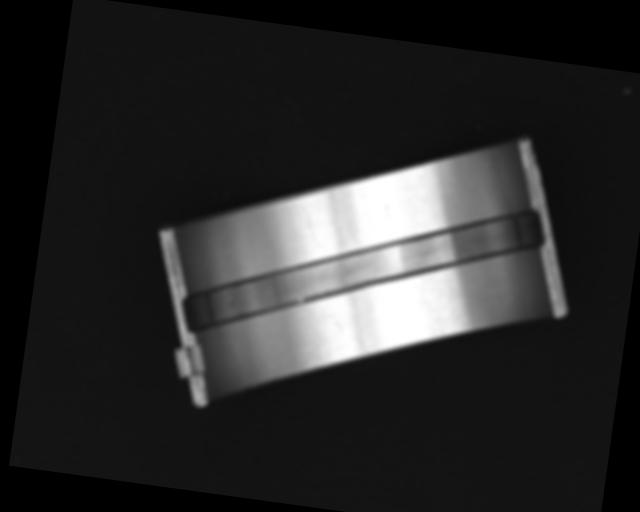gap: (178, 165, 549, 376)
nick: (297, 205, 320, 241)
